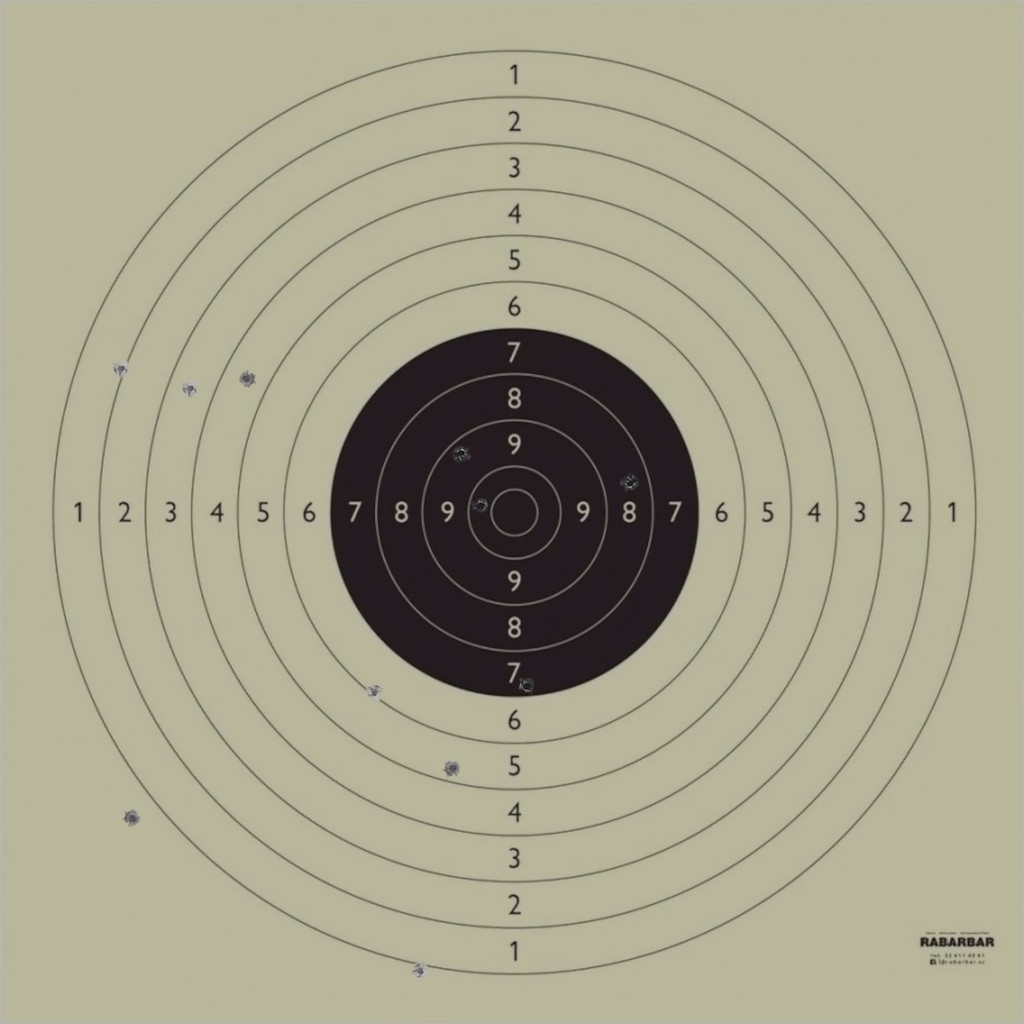0 punktow: (123, 809, 142, 828)
1 punkt: (411, 962, 429, 980)
10 punktow: (471, 496, 490, 515)
2 punkty: (112, 360, 131, 378)
3 punkty: (181, 379, 200, 398)
4 punkty: (238, 370, 256, 388)
5 punktow: (443, 759, 462, 778)
6 punktow: (365, 683, 384, 702)
7 punktow: (518, 677, 536, 695)
8 punktow: (621, 474, 639, 493)
9 punktow: (452, 444, 471, 463)
